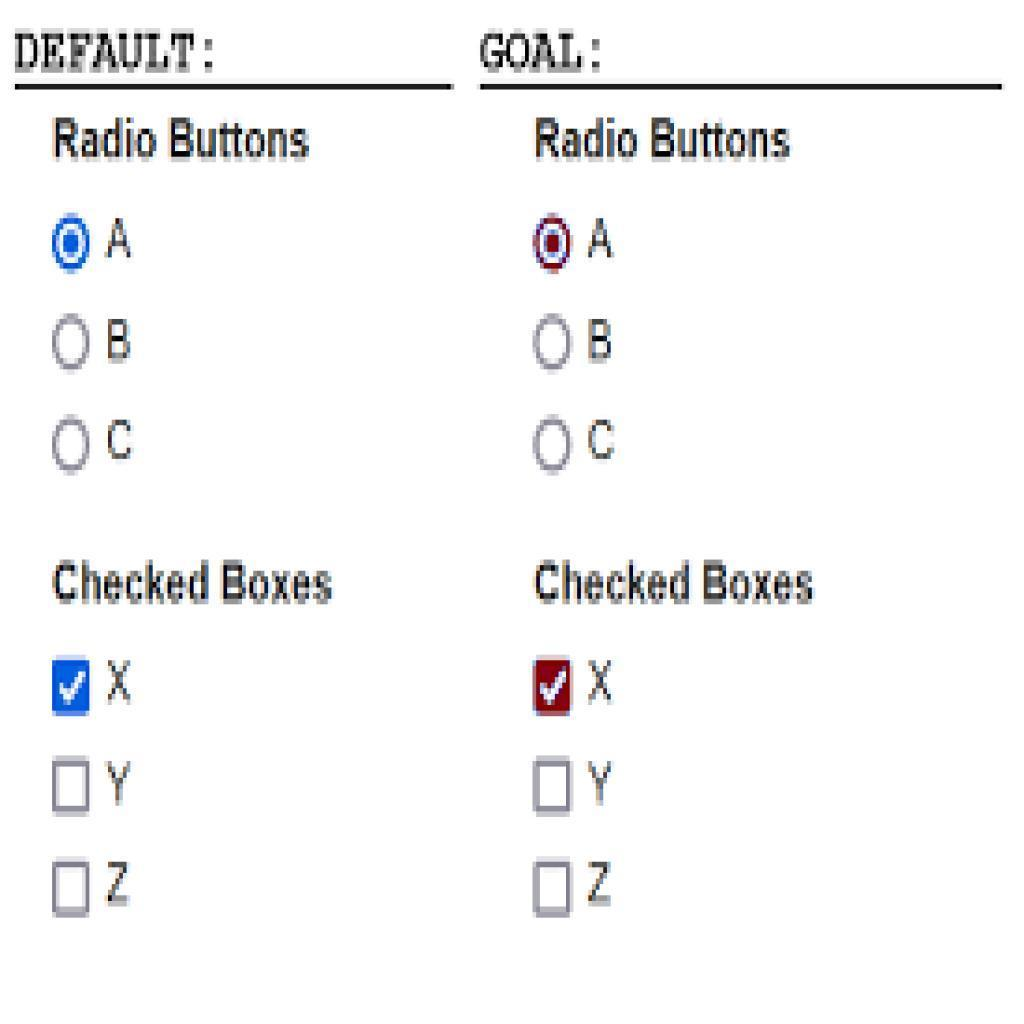checkbox: (533, 656, 578, 723), (49, 656, 95, 718), (51, 755, 94, 820), (532, 758, 575, 822), (532, 863, 574, 921), (49, 861, 93, 916)
radio: (51, 412, 97, 491), (48, 209, 97, 282), (45, 316, 103, 377), (528, 304, 571, 381), (534, 410, 577, 485), (527, 207, 573, 277)
